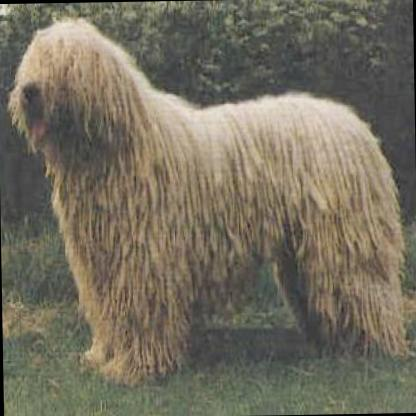komondor: (3, 9, 412, 368)
